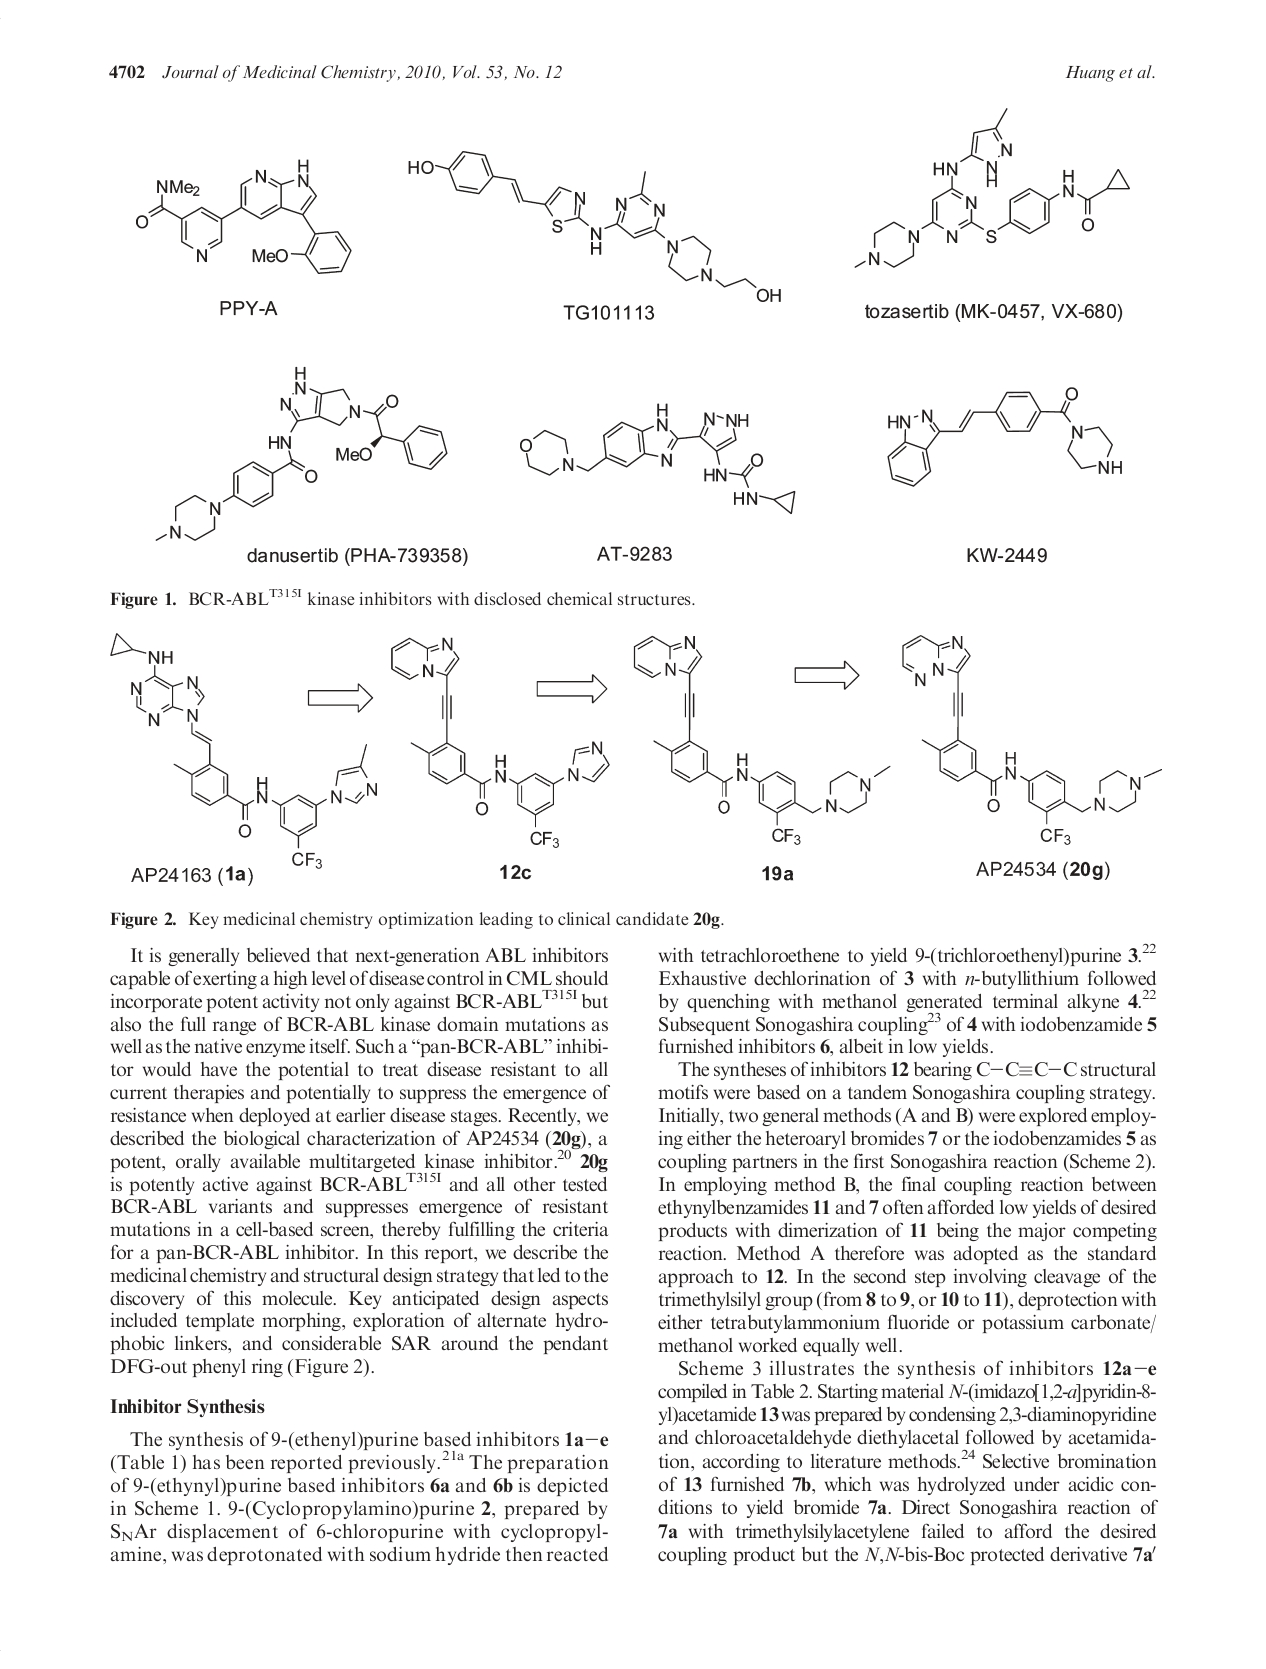exist_molecular: (110, 626, 376, 868), (406, 148, 789, 305), (900, 630, 1166, 848), (632, 630, 890, 847), (154, 362, 451, 544), (390, 634, 612, 848), (851, 105, 1134, 273), (520, 403, 795, 516), (133, 156, 352, 278), (884, 384, 1125, 489)
